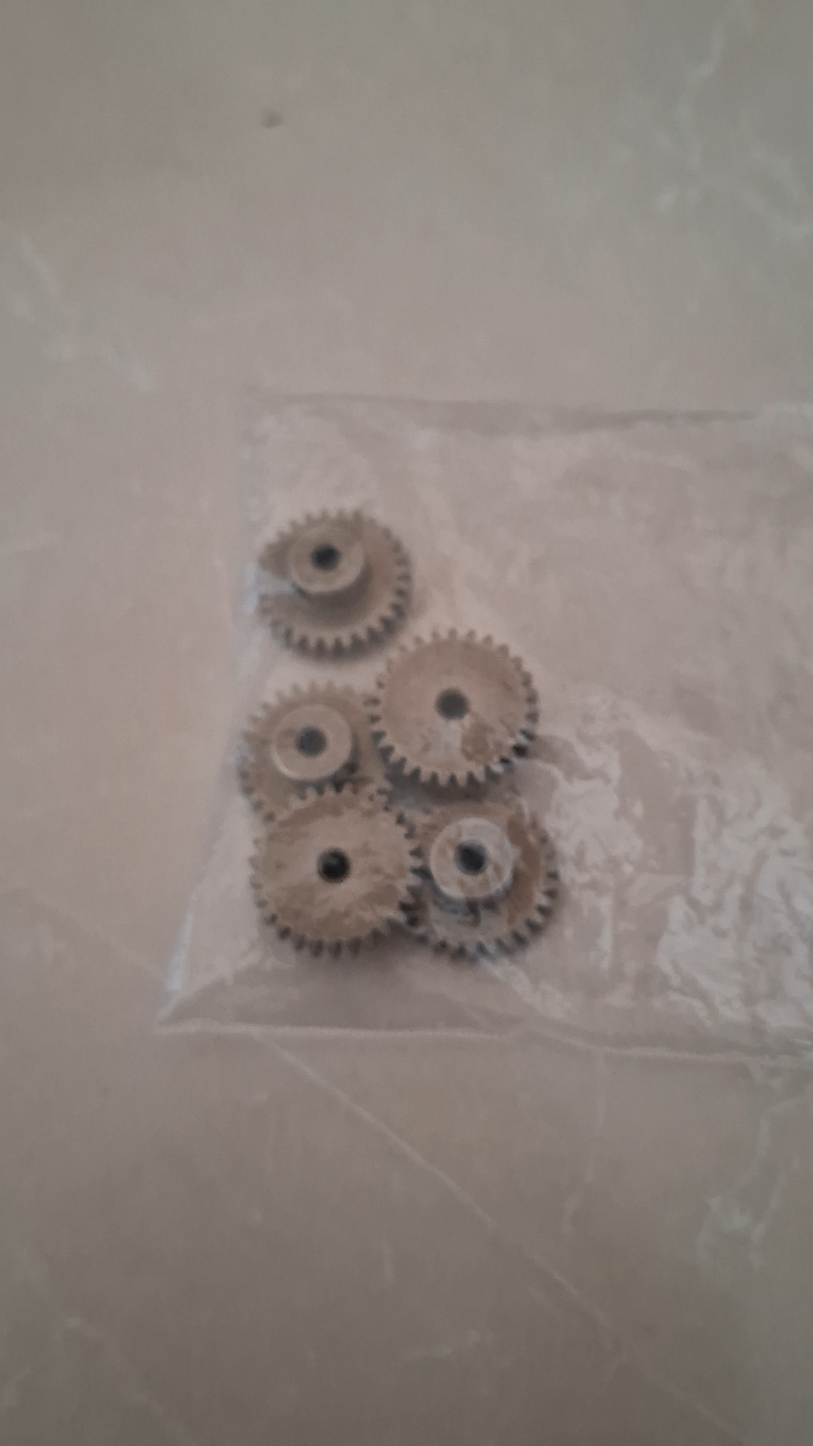spur gear: (253, 785, 420, 953), (369, 631, 537, 787), (410, 799, 557, 958), (259, 512, 410, 654), (238, 685, 382, 821)
